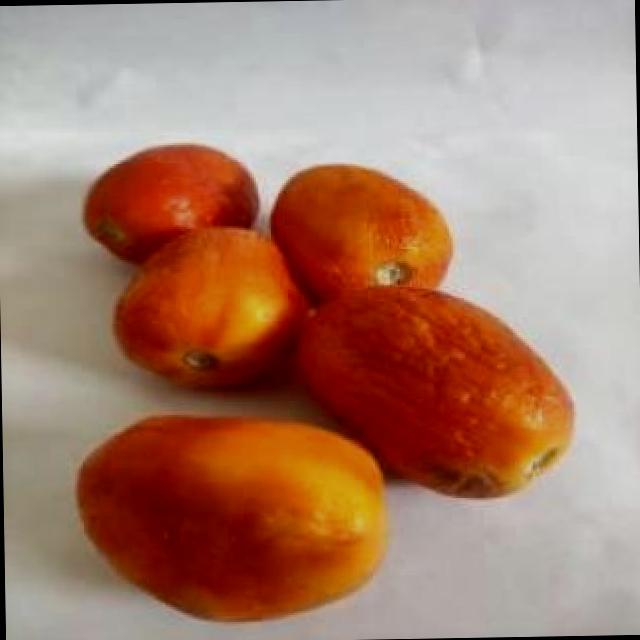Rotten_Tomato: (58, 396, 406, 638), (284, 268, 580, 516), (95, 212, 318, 404), (261, 150, 460, 315), (66, 137, 268, 290)
